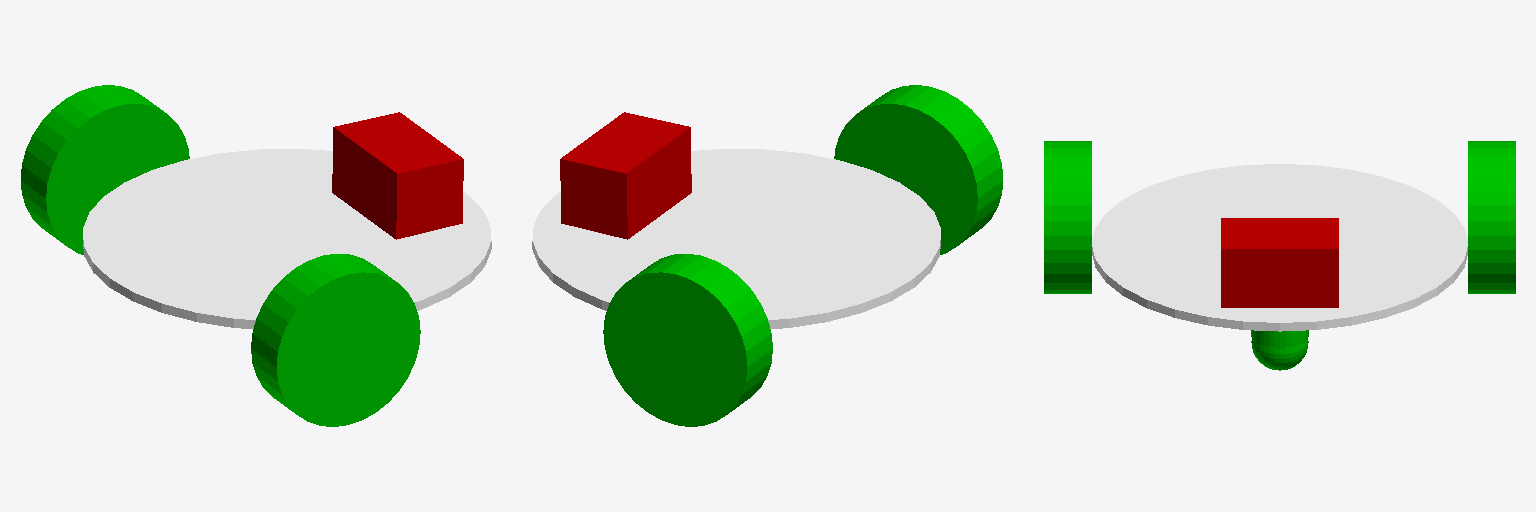
The robot description file, URDF, robot "my_model":
<?xml version="1.0" ?>

<robot name="my_model" xmlns:xacro="http://www.ros.org/wiki/xacro">
  <!-- Wheels -->
  <!-- in kg-->
  <!-- Defining the colors used in this robot -->
  
  <material name="Black">
    <color rgba="0.0 0.0 0.0 1.0"/>
  </material>
  <material name="Red">
    <color rgba="0.8 0.0 0.0 1.0"/>
  </material>
  <material name="Green">
    <color rgba="0.0 0.8 0.0 1.0"/>
  </material>
  <material name="White">
    <color rgba="1.0 1.0 1.0 1.0"/>
  </material>
  <material name="Blue">
    <color rgba="0.0 0.0 0.8 1.0"/>
  </material>
   --&gt; 

  <!-- BASE-LINK -->
  <!--Actual body/chassis of the robot-->

  <link name="base_link">
    <inertial>
      <mass value="0.1"/>
      <origin xyz="0 0 0.05"/>
      <!--The 3x3 rotational inertia matrix. -->
       <inertia ixx="0.0000282916666667" ixy="0" ixz="0" iyy="0.0000282916666667" iyz="0" izz="0.00005625"/>
    </inertial>
    <visual>
      <origin rpy="0 0 0" xyz="0 0 0"/>
      <geometry>
        <cylinder length="0.004" radius="0.08"/>
      </geometry>
      <material name="White"/>
    </visual>
    <collision>
      <origin rpy="0 0 0 " xyz="0 0 0"/>
      <geometry>
        <cylinder length="0.005" radius="0.08"/>
      </geometry>
    </collision>
  </link>
  <gazebo reference="base_link">
    <material>Gazebo/White</material>
    <turnGravityOff>false</turnGravityOff>
  </gazebo>

  <!-- BASE-upperlink -->

<!-- <link name="base_upperlink">
    <inertial>
      <mass value="0.01"/>
      <origin xyz="0 0 0"/>
      <inertia ixx="0.0001" ixy="0" ixz="0" iyy="0.0001" iyz="0" izz="0.0001"/>
    </inertial>
    <visual>
      <origin rpy="0 0 0" xyz="0 0 0"/>
      <geometry>
        <cylinder length="0.004" radius="0.12"/>
      </geometry>
  <material name="White"/>  
  </visual>
    <collision>
      <origin rpy="0 0 0 " xyz="0 0 0"/>
      <geometry>
        <cylinder length="0.005" radius="0.08"/>
      </geometry>
   <material name="White"/>
    </collision>
  </link>
  <gazebo reference="base_upperlink">
  
    <turnGravityOff>false</turnGravityOff>
  </gazebo>
  <joint name="base_upperlink_joint" type="fixed">
    <origin rpy="0 0 0" xyz="0 0 0.054"/>
    <parent link="base_link"/>
    <child link="base_upperlink"/>
  </joint>
 -->



  <!--fb : front, back ; lr: left, right -->
  <link name="right_wheel">
    <visual>
      <origin rpy="1.57079632679 0  0 " xyz="0 0 0"/>
      <geometry>
        <cylinder length="0.02" radius="0.0325"/>
      </geometry>
      <material name="Green"/>
    </visual>
    <collision>
      <origin rpy="1.57079632679 0 0 " xyz="0 0 0"/>
      <geometry>
        <cylinder length="0.005" radius="0.025"/>
      </geometry>
    </collision>
    <inertial>
      <mass value="0.5"/>
      <origin xyz="0 0 0"/>
      <inertia ixx="0.0001" ixy="0" ixz="0" iyy="0.0001" iyz="0" izz="0.0001"/>
    </inertial>
  </link>
  <gazebo reference="right_wheel">
    <mu1 value="1.0"/>
    <mu2 value="1.0"/>
    <kp value="100000.0"/>
    <kd value="1.0"/>
    <fdir1 value="1 0 0"/>
    <material>Gazebo/Green</material>
    <turnGravityOff>false</turnGravityOff>
  </gazebo>
  <joint name="right_wheel_joint" type="continuous">
    <parent link="base_link"/>
    <child link="right_wheel"/>
      <origin rpy="0 0 0" xyz="-0.03 -0.09 0"/>
    <axis rpy="0 0 0" xyz="0 1 0"/>
    <limit effort="100" velocity="100"/>
    <joint_properties damping="0.0" friction="0.0"/>
  </joint>
  <!-- Transmission is important to link the joints and the controller -->


  <transmission name="right_wheel_joint_trans">
    <type>transmission_interface/SimpleTransmission</type>
    <joint name="right_wheel_joint"/>
    <actuator name="right_wheel_joint_motor">
      <hardwareInterface>EffortJointInterface</hardwareInterface>
      <mechanicalReduction>1</mechanicalReduction>
    </actuator>
  </transmission>
  
  <!--left motor -->
  <link name="left_wheel">
    <visual>
      <origin rpy="1.57079632679 0  0 " xyz="0 0 0"/>
      <geometry>
        <cylinder length="0.02" radius="0.0325"/>
      </geometry>
      <material name="Green"/>
    </visual>
    <collision>
      <origin rpy="1.57079632679 0 0 " xyz="0 0 0"/>
      <geometry>
        <cylinder length="0.005" radius="0.025"/>
      </geometry>
    </collision>
    <inertial>
      <mass value="0.5"/>
      <origin xyz="0 0 0"/>
      <inertia ixx="0.0001" ixy="0" ixz="0" iyy="0.0001" iyz="0" izz="0.0001"/>
    </inertial>
  </link>
  <gazebo reference="left_wheel">
    <mu1 value="1.0"/>
    <mu2 value="1.0"/>
    <kp value="100000.0"/>
    <kd value="1.0"/>
    <fdir1 value="1 0 0"/>
    <material>Gazebo/Green</material>
    <turnGravityOff>false</turnGravityOff>
  </gazebo>
  <joint name="left_wheel_joint" type="continuous">
    <parent link="base_link"/>
    <child link="left_wheel"/>
    <origin rpy="0 0 0" xyz="-0.03 0.09 0"/>
    <axis rpy="0  0" xyz="0 1 0"/>
    <limit effort="100" velocity="100"/>
    <joint_properties damping="0.0" friction="0.0"/>
  </joint>

  <!-- Transmission is important to link the joints and the controller -->
  <transmission name="left_wheel_joint_trans">
    <type>transmission_interface/SimpleTransmission</type>
    <joint name="left_wheel_joint"/>
    <actuator name="left_wheel_joint_motor">
      <hardwareInterface>EffortJointInterface</hardwareInterface>
      <mechanicalReduction>1</mechanicalReduction>
    </actuator>
  </transmission>

  <!--Caster front  -->

  <link name="caster_front_link">
    <visual>
      <origin rpy="1.57079632679 0 0" xyz="0 0 0"/>
      <geometry>
        <sphere radius="0.01214"/>
      </geometry>
      <material name="Green"/>
    </visual>
    <collision>
      <geometry>
        <sphere radius="0.007"/>
      </geometry>
      <origin rpy="1.57079632679 0 0" xyz="0 0 0"/>
    </collision>
    <inertial>
      <mass value="0.5"/>
      <origin xyz="0 0 0"/>
      <inertia ixx="0.0000001" ixy="0.0" ixz="0.0" iyy="0.0000001" iyz="0.0" izz="0.0000001"/>
    </inertial>
  </link>
  <joint name="caster_front_joint" type="continuous">
    <parent link="caster_link"/>
    <child link="caster_front_link"/>
    <origin rpy="0 0 0" xyz="0.05 0 -0.01545"/>
    <axis rpy="0 0 0" xyz="0 1 0"/>
  </joint>
  <gazebo reference="caster_front_link">
<!--     <mu1 value="1.0"/>
    <mu2 value="1.0"/>
    <kp value="100000.0"/>
    <kd value="1.0"/>
    <fdir1 value="1 1 0"/> -->
    <turnGravityOff>false</turnGravityOff>
    <material>Gazebo/Green</material>
  </gazebo>
  
<link name="caster_link">
    <visual>
      <origin rpy="0 0  0 " xyz="0.05 0 0"/>
      <geometry>
        <cylinder length="0.02586" radius="0.01214"/>
      </geometry>
      <material name="Green"/>
    </visual>
    <collision>
      <origin rpy="0 0 0 " xyz="0.05 0 0"/>
      <geometry>
        <cylinder length="0.02586" radius="0.005"/>
      </geometry>
    </collision>
    <inertial>
      <mass value="0.05"/>
      <origin xyz="0.05 0 0"/>
      <inertia ixx="0.00001" ixy="0" ixz="0" iyy="0.00001" iyz="0" izz="0.00001"/>
    </inertial>
  </link>
  
<joint name="caster_front_joint_base" type="fixed">
    <parent link="base_link"/>
    <child link="caster_link"/>
    <origin rpy="0 0 0" xyz="0 0.0 -0.00545"/>
  </joint>
  <gazebo reference="caster_link">
    <turnGravityOff>false</turnGravityOff>
    <material>Gazebo/Green</material>
  </gazebo>
  
  



  <!-- camera -->
<joint name="left_camera" type="fixed">
    <axis xyz="1 0 0"/>      
    <origin rpy="0 .02 0" xyz="0.05 0.01 0.015"/>
    <parent link="base_link"/>
    <child link="left_camera"/>
  </joint>

<link name="left_camera">
  <inertial>
    <mass value="0.001"/>
    <origin rpy="0 0 0" xyz="0.05 0 0"/>
    <inertia ixx="0.001" ixy="0" ixz="0" iyy="0.001" iyz="0" izz="0.001"/>
  </inertial>
  <visual>
    <origin rpy="0 0 0" xyz="0 0 0"/>
    <geometry>
      <box size="0.03 0.03 0.03"/>
    </geometry>
    <material name="Red"/>  
  </visual>
  <collision>
    <origin rpy="0 0 0" xyz="0 0 0"/>
    <geometry>
      <box size=".03 .03 .03"/>
    </geometry>
  </collision>
</link>

  <gazebo reference="left_camera">
   <material>Gazebo/Red</material>
    <turnGravityOff>false</turnGravityOff>
   
        <sensor name='left_camera' type='camera'>
          <camera name='__default__'>
            <horizontal_fov>1.047</horizontal_fov>
            <image>
              <width>640</width>
              <height>480</height>
            </image>
            <clip>
              <near>0.1</near>
              <far>100</far>
            </clip>
          </camera>

          <plugin name='left_camera' filename='libgazebo_ros_camera.so'>
            <!-- <cameraName>left</cameraName> -->
            <alwaysOn>true</alwaysOn>
            <updateRate>60</updateRate>
            <imageTopicName>/stereo/left/image_raw</imageTopicName>
            <cameraInfoTopicName>stereo/left/camera_info</cameraInfoTopicName>
            <frameName>main_camera</frameName>
          </plugin>
        <pose>-3 0 0 0 0 0</pose>
        </sensor>
  </gazebo>
<joint name="right_camera" type="fixed">
    <axis xyz="1 0 0"/>      
    <origin rpy="0 .02 0" xyz="0.05 -0.01 0.015"/>
    <parent link="base_link"/>
    <child link="right_camera"/>
  </joint>

<link name="right_camera">
  <inertial>
    <mass value="0.001"/>
    <origin rpy="0 0 0" xyz="0.05 0 0"/>
    <inertia ixx="0.001" ixy="0" ixz="0" iyy="0.001" iyz="0" izz="0.001"/>
  </inertial>
  <visual>
    <origin rpy="0 0 0" xyz="0 0 0"/>
    <geometry>
      <box size="0.03 0.03 0.03"/>
    </geometry>
    <material name="Red"/>  
  </visual>
  <collision>
    <origin rpy="0 0 0" xyz="0 0 0"/>
    <geometry>
      <box size=".03 .03 .03"/>
    </geometry>
  </collision>
</link>

  <gazebo reference="right_camera">
   <material>Gazebo/Red</material>
    <turnGravityOff>false</turnGravityOff>
   
        <sensor name='right_camera' type='camera'>
          <camera name='__default__'>
            <horizontal_fov>1.047</horizontal_fov>
            <image>
              <width>640</width>
              <height>480</height>
            </image>
            <clip>
              <near>0.1</near>
              <far>100</far>
            </clip>
          </camera>

          <plugin name='right_camera' filename='libgazebo_ros_camera.so'>
            <!-- <cameraName>right</cameraName> -->
            <alwaysOn>true</alwaysOn>
            <updateRate>60</updateRate>
            <imageTopicName>stereo/right/image_raw</imageTopicName>
            <cameraInfoTopicName>stereo/right/camera_info</cameraInfoTopicName>
            <frameName>main_camera</frameName>
          </plugin>
        <pose>-3 0 0 0 0 0</pose>
        </sensor>
  </gazebo>

<!--   <link name="support_1">
    <visual>
      <origin rpy="0 0 0" xyz="0 0 0"/>
      <geometry>
       <cylinder length="0.05" radius="0.01"/>
      </geometry>
   <material name="Black"/>
    </visual>

  </link> 

  <joint name="support_joint1" type="fixed">
    <origin rpy="0 0 0" xyz="0.04 -0.07 0.027"/>
    <parent link="base_link"/>
    <child link="support_1"/>
  </joint>
  
  <gazebo reference="support_1">
    <turnGravityOff>false</turnGravityOff>
    <material>Gazebo/Black</material>
  </gazebo>

<link name="support_2">
    <visual>
      <origin rpy="0 0 0" xyz="0 0 0"/>
      <geometry>
       <cylinder length="0.05" radius="0.01"/>
      </geometry>
   <material name="Black"/>
    </visual>

  </link> 

  <joint name="support_joint2" type="fixed">
    <origin rpy="0 0 0" xyz="0.04 0.07 0.027"/>
    <parent link="base_link"/>
    <child link="support_2"/>
  </joint>
  <gazebo reference="support_2">
    <turnGravityOff>false</turnGravityOff>
    <material>Gazebo/Black</material>
  </gazebo>

<link name="support_3">
    <visual>
      <origin rpy="0 0 0" xyz="0 0 0"/>
      <geometry>
       <cylinder length="0.05" radius="0.01"/>
      </geometry>
   <material name="Black"/>
    </visual>

  </link> 

  <joint name="support_joint3" type="fixed">
    <origin rpy="0 0 0" xyz="-0.06 -0.07 0.027"/>
    <parent link="base_link"/>
    <child link="support_3"/>
  </joint>

  <gazebo reference="support_3">
    <turnGravityOff>false</turnGravityOff>
    <material>Gazebo/Black</material>
  </gazebo>

<link name="support_4">
    <visual>
      <origin rpy="0 0 0" xyz="0 0 0"/>
      <geometry>
       <cylinder length="0.05" radius="0.01"/>
      </geometry>
   <material name="Black"/>
    </visual>

  </link> 

  <joint name="support_joint4" type="fixed">
    <origin rpy="0 0 0" xyz="-0.06 0.07 0.027"/>
    <parent link="base_link"/>
    <child link="support_4"/>
  </joint>

  <gazebo reference="support_4">
    <turnGravityOff>false</turnGravityOff>
    <material>Gazebo/Black</material>
  </gazebo> -->

<gazebo>
    <plugin filename="libgazebo_ros_diff_drive.so" name="differential_drive_controller_front">
      <rosDebugLevel>Debug</rosDebugLevel>
      <publishWheelTF>True</publishWheelTF>
      <publishTf>1</publishTf>
      <publishWheelJointState>true</publishWheelJointState>
      <alwaysOn>true</alwaysOn>
      <updateRate>100.0</updateRate>
      <leftJoint>left_wheel_joint</leftJoint>
      <rightJoint>right_wheel_joint</rightJoint>
      <wheelSeparation>0.3</wheelSeparation>
      <wheelDiameter>0.065</wheelDiameter>
      <broadcastTF>1</broadcastTF>
      <wheelTorque>30</wheelTorque>
      <wheelAcceleration>1.8</wheelAcceleration>
      <commandTopic>cmd_vel</commandTopic>
      <odometryFrame>odom</odometryFrame>
      <odometryTopic>odom</odometryTopic>
      <robotBaseFrame>base_link</robotBaseFrame>
    </plugin>
  </gazebo>
 
</robot>

--- What the picture shows (computed from the rendered views, not written in the file) ---
3 views of the same robot in one strip: view 1: azimuth 30°, elevation 25°; view 2: azimuth 150°, elevation 25°; view 3: azimuth 270°, elevation 25° (orthographic).
Model my_model with 7 links and 6 joints (3 continuous, 3 fixed), rooted at base_link, posed all joints at 0.
Visible links, largest first — view 1: base_link, right_wheel, left_wheel, right_camera, left_camera; view 2: base_link, left_wheel, right_wheel, left_camera, right_camera; view 3: base_link, right_wheel, left_wheel, left_camera, right_camera, caster_front_link, caster_link.
Boxes of the visible links, x1,y1,x2,y2 form: base_link: (83, 149, 491, 328); right_wheel: (251, 254, 420, 426); left_wheel: (21, 85, 189, 254); right_camera: (359, 137, 463, 239); left_camera: (332, 112, 436, 220); base_link: (532, 149, 940, 328); left_wheel: (603, 254, 772, 426); right_wheel: (834, 85, 1002, 254); left_camera: (560, 132, 665, 239); right_camera: (588, 112, 691, 220); base_link: (1092, 164, 1467, 331); right_wheel: (1044, 141, 1091, 293); left_wheel: (1468, 141, 1515, 293); left_camera: (1268, 218, 1338, 307); right_camera: (1221, 218, 1291, 307); caster_front_link: (1251, 340, 1308, 370); caster_link: (1251, 330, 1308, 348).
Size in the robot's own frame: 0.16 by 0.2 by 0.0655 metres.
Geometry: primitives only (box / cylinder / sphere), no mesh files.